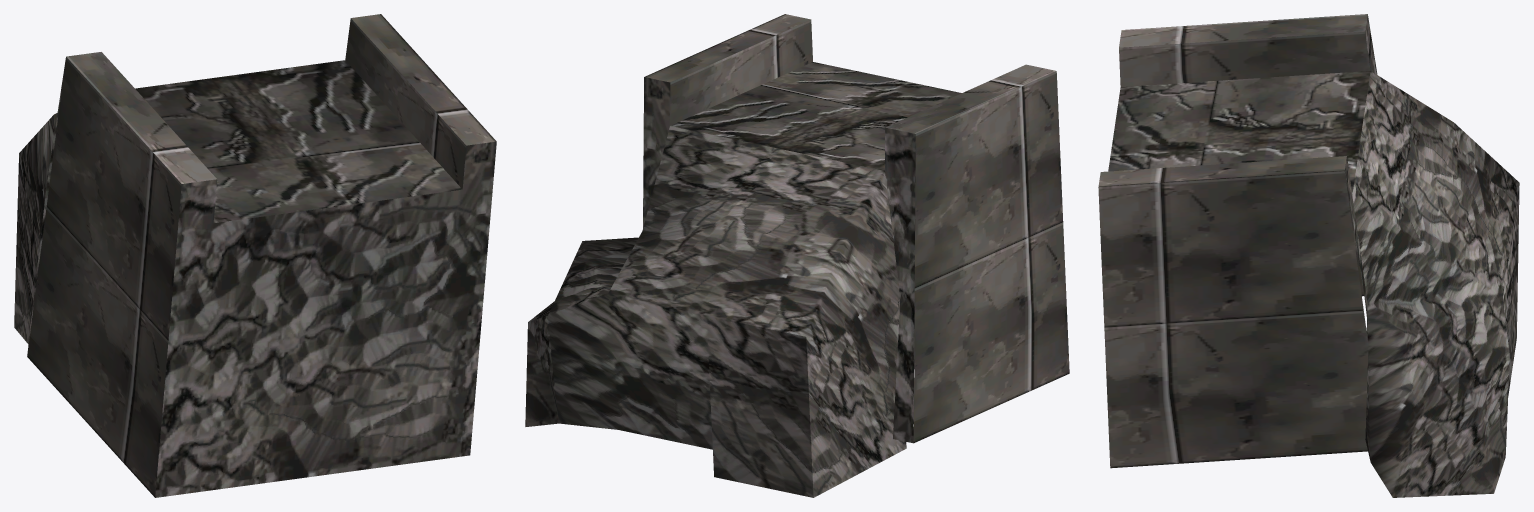
Rendered from INST_SM_DEBRIS_BLOCK_SMALLF.fbx.
3 views of the same model, side by side, from view 1: azimuth 30°, elevation 25°; view 2: azimuth 150°, elevation 25°; view 3: azimuth 270°, elevation 25° (orthographic). The views are drawn at different scales.
Parts seen in each view (by area): view 1: INST_SM_DEBRIS_BLOCK_SMALLF; view 2: INST_SM_DEBRIS_BLOCK_SMALLF; view 3: INST_SM_DEBRIS_BLOCK_SMALLF.
Part boxes in pixels (x1,y1,x2,y2): INST_SM_DEBRIS_BLOCK_SMALLF: (14, 14, 496, 497); INST_SM_DEBRIS_BLOCK_SMALLF: (525, 14, 1069, 497); INST_SM_DEBRIS_BLOCK_SMALLF: (1098, 14, 1519, 497).
Bounding box in the file's own units: 36050 × 30983 × 35336.
Materials: 3 (3 with a texture image).
